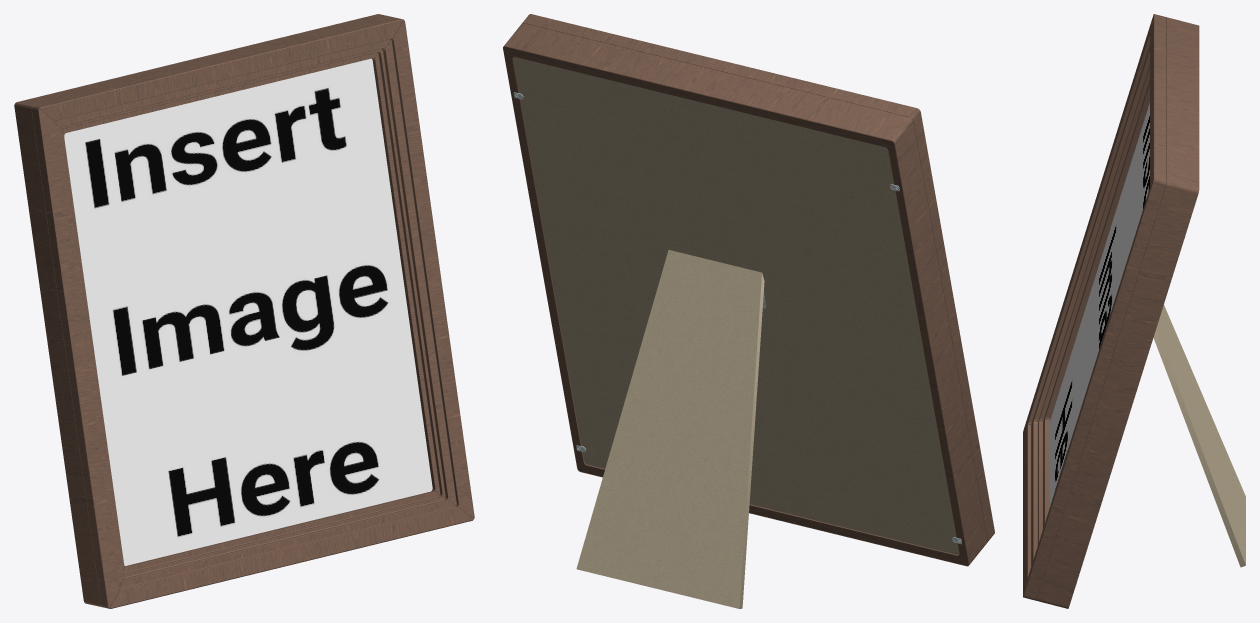
File: frame.glb
3 views of the same model, side by side, from view 1: azimuth 30°, elevation 25°; view 2: azimuth 150°, elevation 25°; view 3: azimuth 270°, elevation 25° (orthographic). The views are drawn at different scales.
Visible parts, largest first — view 1: Cube.002; view 2: Cube.002; view 3: Cube.002.
Part boxes in pixels (x1,y1,x2,y2): Cube.002: [14, 14, 474, 608]; Cube.002: [503, 14, 994, 608]; Cube.002: [1023, 14, 1245, 608].
Bounding box in the file's own units: 1.77 × 2.13 × 0.9991.
4 materials, 4 textured.
